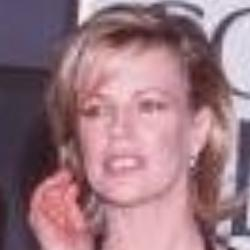face: (31, 8, 244, 217)
